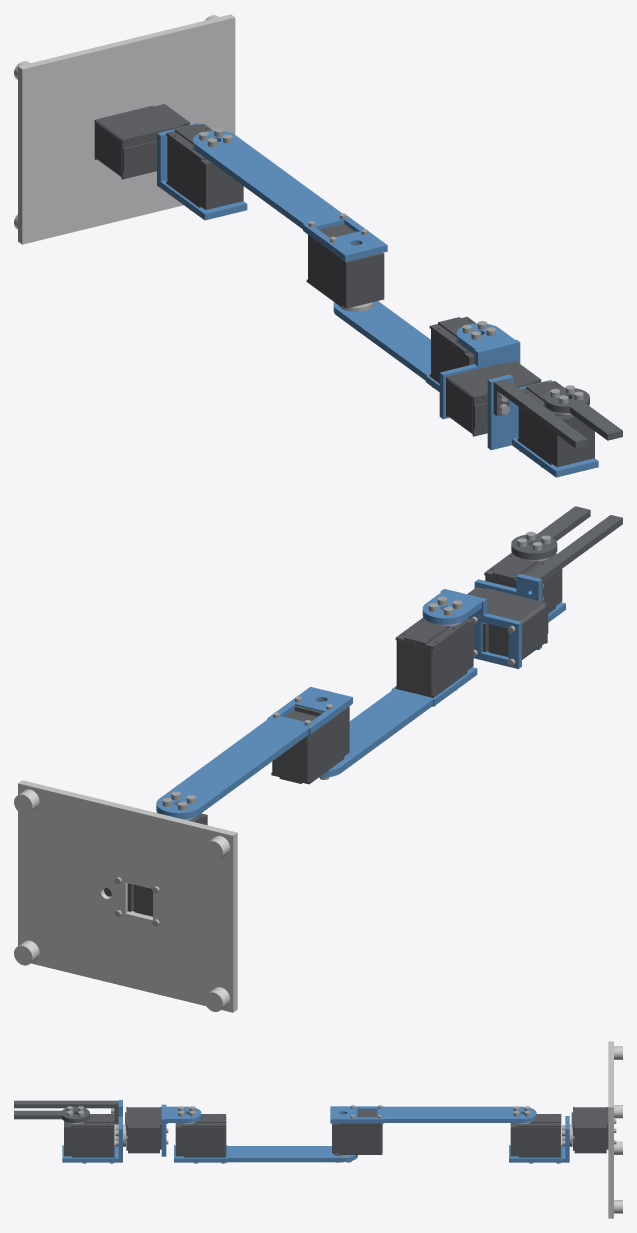
3 renders of one model, top to bottom at view 1: azimuth 30°, elevation 25°; view 2: azimuth 150°, elevation 25°; view 3: azimuth 270°, elevation 25°, orthographic. The views are drawn at different scales.
Parts seen in each view (by area): view 1: geometry_5, geometry_27, geometry_0, geometry_26, geometry_15, geometry_38, geometry_48, geometry_59, geometry_62, geometry_49, geometry_63, geometry_37 (+2 smaller); view 2: geometry_5, geometry_27, geometry_37, geometry_38, geometry_26, geometry_48, geometry_49, geometry_59, geometry_63, geometry_69, geometry_62, geometry_0; view 3: geometry_27, geometry_38, geometry_15, geometry_37, geometry_59, geometry_26, geometry_0, geometry_48, geometry_5, geometry_63, geometry_69, geometry_49 (+2 smaller).
Boxes of the visible parts, bbox=[...] form: geometry_5: bbox=[14, 14, 235, 244]; geometry_27: bbox=[193, 130, 387, 261]; geometry_0: bbox=[94, 104, 189, 179]; geometry_26: bbox=[306, 224, 384, 308]; geometry_15: bbox=[166, 124, 243, 209]; geometry_38: bbox=[333, 301, 439, 391]; geometry_48: bbox=[446, 361, 541, 436]; geometry_59: bbox=[517, 381, 594, 467]; geometry_62: bbox=[487, 374, 598, 477]; geometry_49: bbox=[439, 323, 520, 419]; geometry_63: bbox=[493, 379, 587, 448]; geometry_37: bbox=[429, 316, 475, 383]; geometry_5: bbox=[14, 780, 237, 1012]; geometry_27: bbox=[156, 687, 352, 819]; geometry_37: bbox=[395, 617, 473, 697]; geometry_38: bbox=[319, 667, 477, 777]; geometry_26: bbox=[271, 700, 349, 784]; geometry_48: bbox=[467, 587, 548, 659]; geometry_49: bbox=[422, 589, 521, 668]; geometry_59: bbox=[484, 552, 562, 613]; geometry_63: bbox=[528, 515, 622, 601]; geometry_69: bbox=[511, 506, 590, 559]; geometry_62: bbox=[474, 574, 565, 650]; geometry_0: bbox=[104, 883, 152, 916]; geometry_27: bbox=[330, 1106, 536, 1123]; geometry_38: bbox=[174, 1145, 357, 1162]; geometry_15: bbox=[510, 1114, 561, 1157]; geometry_37: bbox=[175, 1114, 226, 1157]; geometry_59: bbox=[64, 1114, 114, 1157]; geometry_26: bbox=[332, 1109, 382, 1154]; geometry_0: bbox=[571, 1107, 608, 1153]; geometry_48: bbox=[125, 1107, 161, 1153]; geometry_5: bbox=[608, 1041, 622, 1218]; geometry_63: bbox=[14, 1100, 118, 1124]; geometry_69: bbox=[14, 1106, 89, 1122]; geometry_49: bbox=[161, 1104, 201, 1156].
Bounding box in the file's own units: 0.14 × 0.11 × 0.5452.
